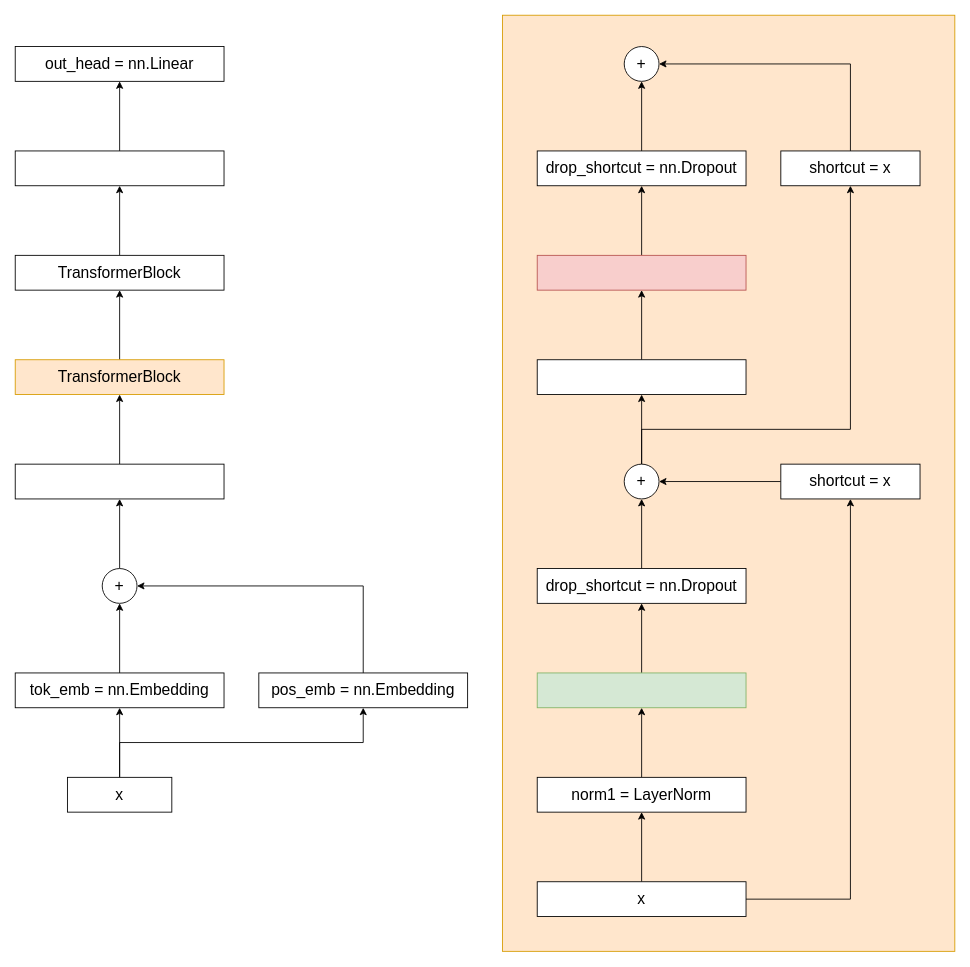
Image size: 970x967. Some labels were removed from this diagram. Each missing label, with the centre of its shape:
"att = MultiHeadAttention" goes at [641,690].
"drop_emb = nn.Dropout" goes at [119,481].
"ff = FeedForward" goes at [641,272].
"final_norm = LayerNorm" goes at [119,168].
"norm2 = LayerNorm" goes at [641,377].
